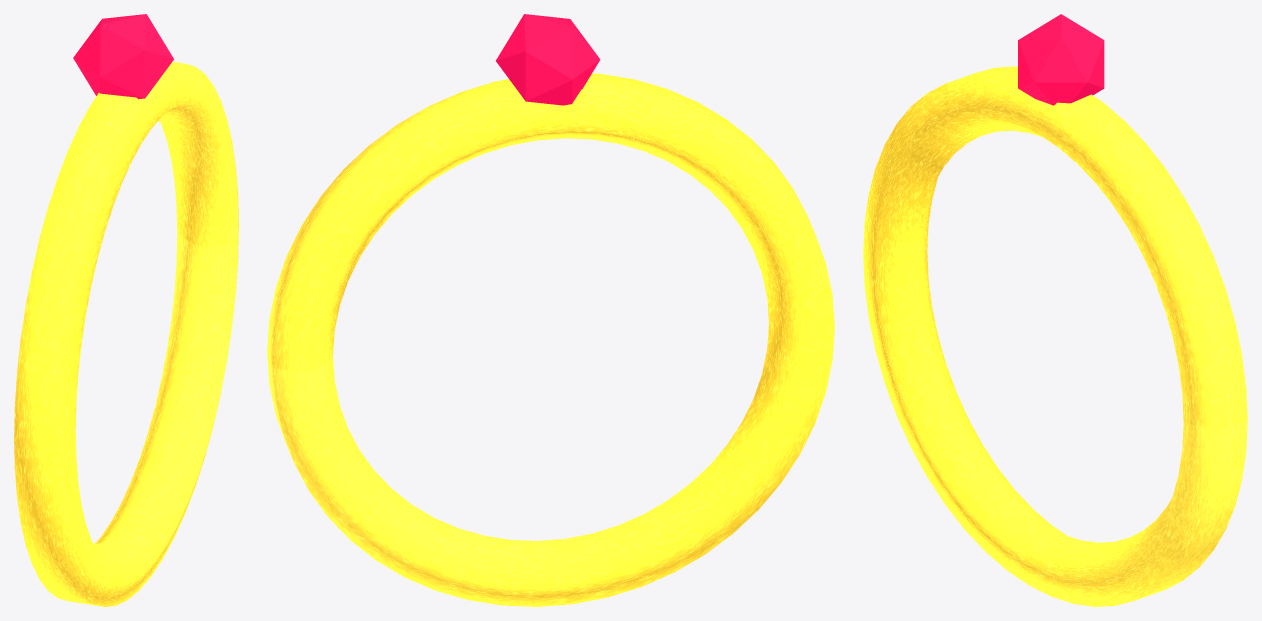
The model's file is ring.gltf.
The picture shows the model from 3 angles, left to right: view 1: azimuth 30°, elevation 25°; view 2: azimuth 150°, elevation 25°; view 3: azimuth 270°, elevation 25°; orthographic projection. The views are drawn at different scales.
Parts seen in each view (by area): view 1: Torus, Icosahedron; view 2: Torus, Icosahedron; view 3: Torus, Icosahedron.
Boxes of the visible parts, left/top/right/bottom form: Torus: left=14, top=61, right=238, bottom=606; Icosahedron: left=73, top=14, right=173, bottom=99; Torus: left=267, top=73, right=834, bottom=606; Icosahedron: left=496, top=14, right=600, bottom=105; Torus: left=863, top=66, right=1247, bottom=606; Icosahedron: left=1018, top=14, right=1104, bottom=105.
Bounding box in the file's own units: 1.59 × 2.19 × 1.36.
